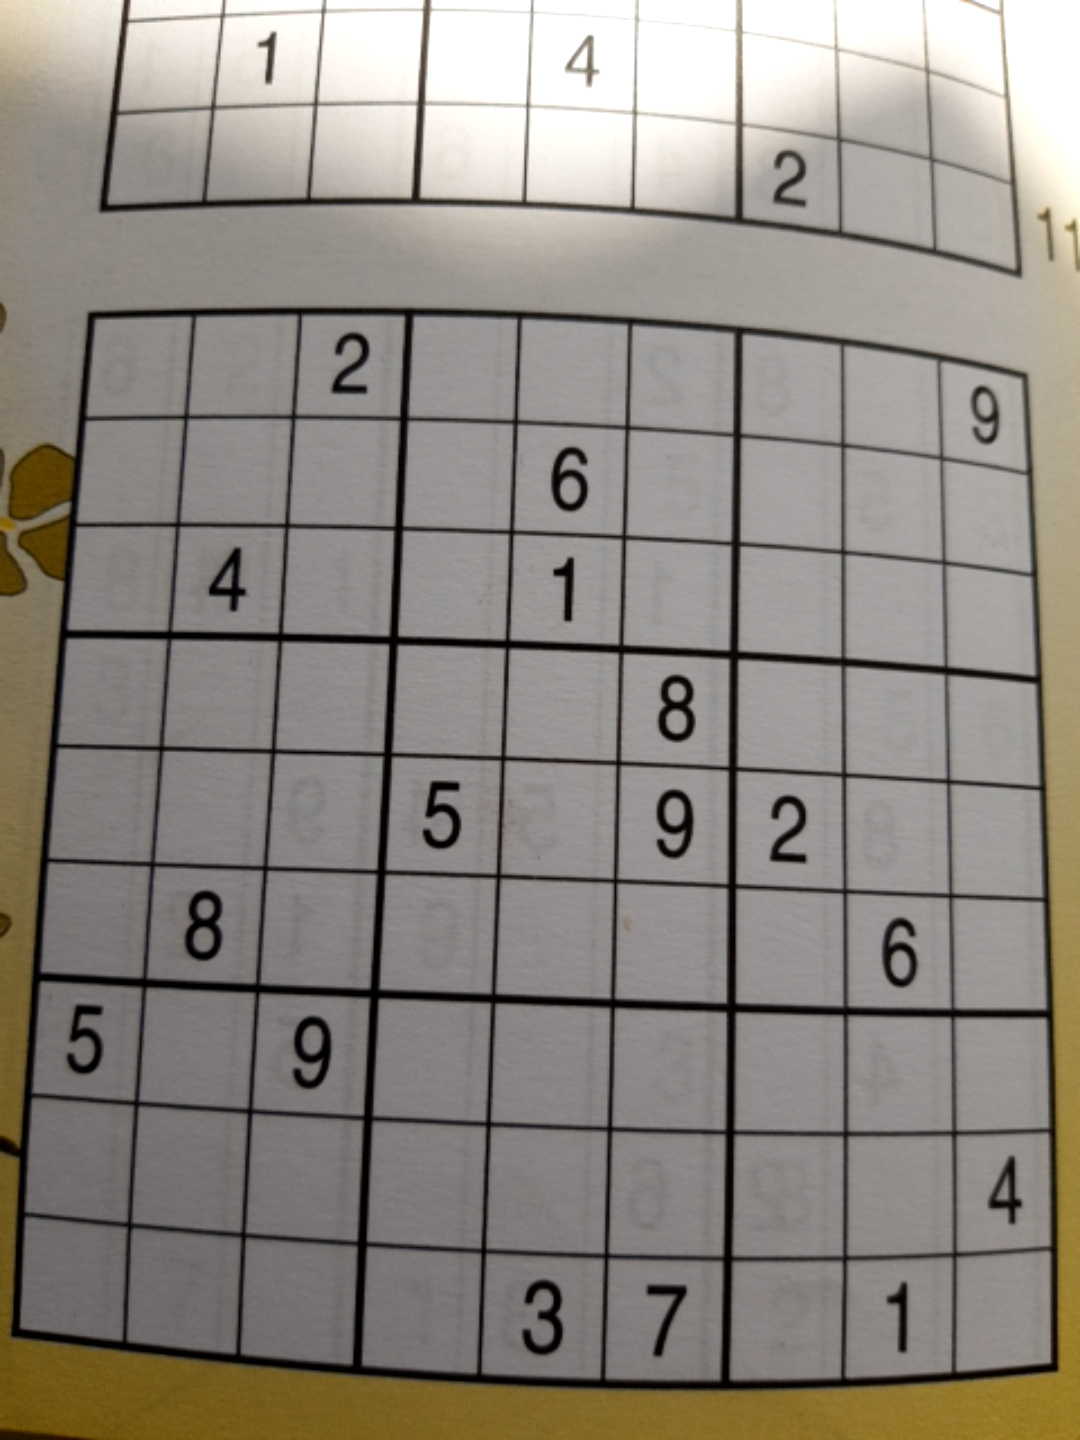sudoku: (15, 309, 1055, 1384)
